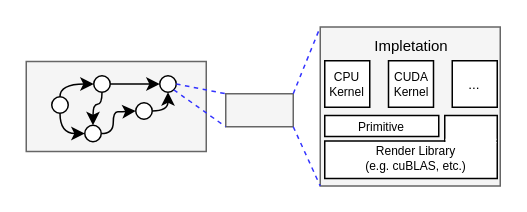
Some shapes in this 527 by 212 pixel diagram are drawn without their labels. Here are the shapes that lost their labels. From the top down, the centre of each, then its label:
At point (115, 106): "Computation Graph".
At point (258, 109): "Operator".
